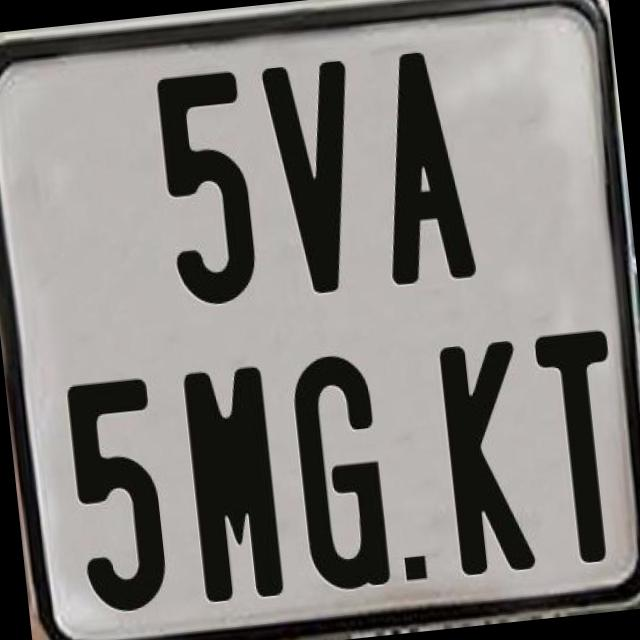5: (155, 70, 260, 316), (62, 372, 166, 614)
A: (364, 49, 478, 288)
G: (287, 348, 393, 592)
K: (438, 340, 537, 576)
M: (179, 362, 283, 604)
T: (530, 326, 634, 567)
V: (258, 60, 370, 302)
